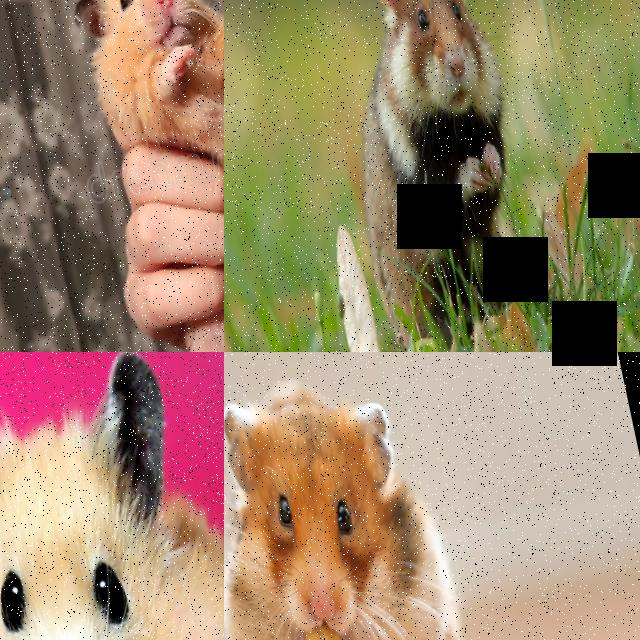hamster: (305, 0, 552, 352), (224, 352, 492, 640), (0, 352, 224, 640), (59, 0, 224, 352)
